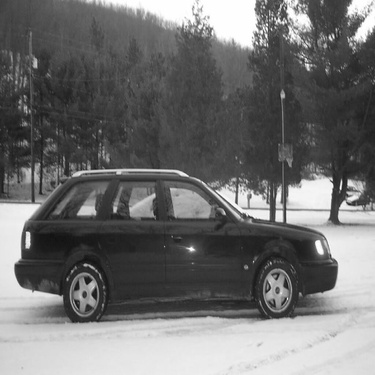car: (7, 158, 344, 332)
